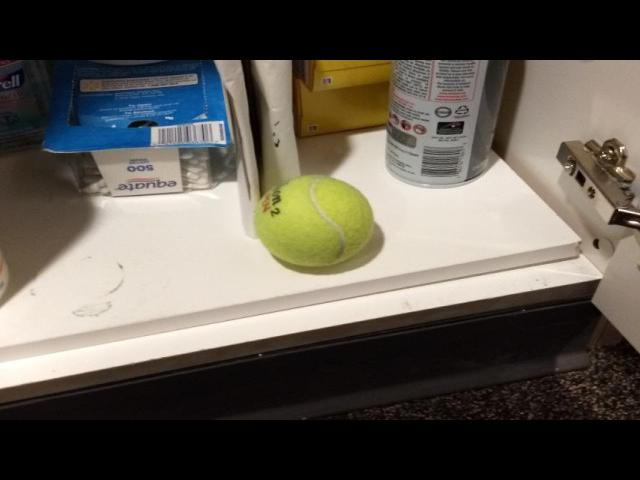tennis-ball: (254, 172, 376, 270)
